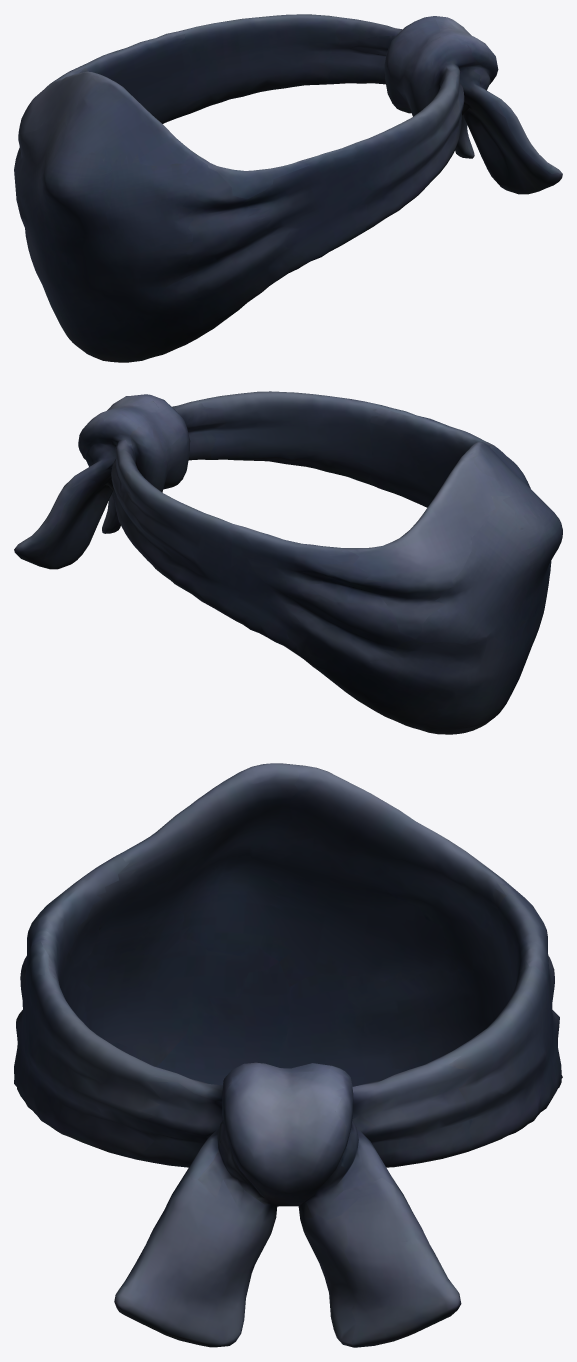
File: cs-ninja-mask.glb
The picture shows the model from 3 angles, top to bottom: view 1: azimuth 30°, elevation 25°; view 2: azimuth 150°, elevation 25°; view 3: azimuth 270°, elevation 25°; orthographic projection. The views are drawn at different scales.
Visible parts, largest first — view 1: tripo_node_c8dc3bc8-e1f7-44af-9632-a4ac4398b79f; view 2: tripo_node_c8dc3bc8-e1f7-44af-9632-a4ac4398b79f; view 3: tripo_node_c8dc3bc8-e1f7-44af-9632-a4ac4398b79f.
Part boxes in pixels (x1,y1,x2,y2): tripo_node_c8dc3bc8-e1f7-44af-9632-a4ac4398b79f: (14,14,562,362); tripo_node_c8dc3bc8-e1f7-44af-9632-a4ac4398b79f: (14,391,562,734); tripo_node_c8dc3bc8-e1f7-44af-9632-a4ac4398b79f: (14,763,562,1347).
Bounding box in the file's own units: 1 × 0.5507 × 0.6539.
1 material, 1 textured.
